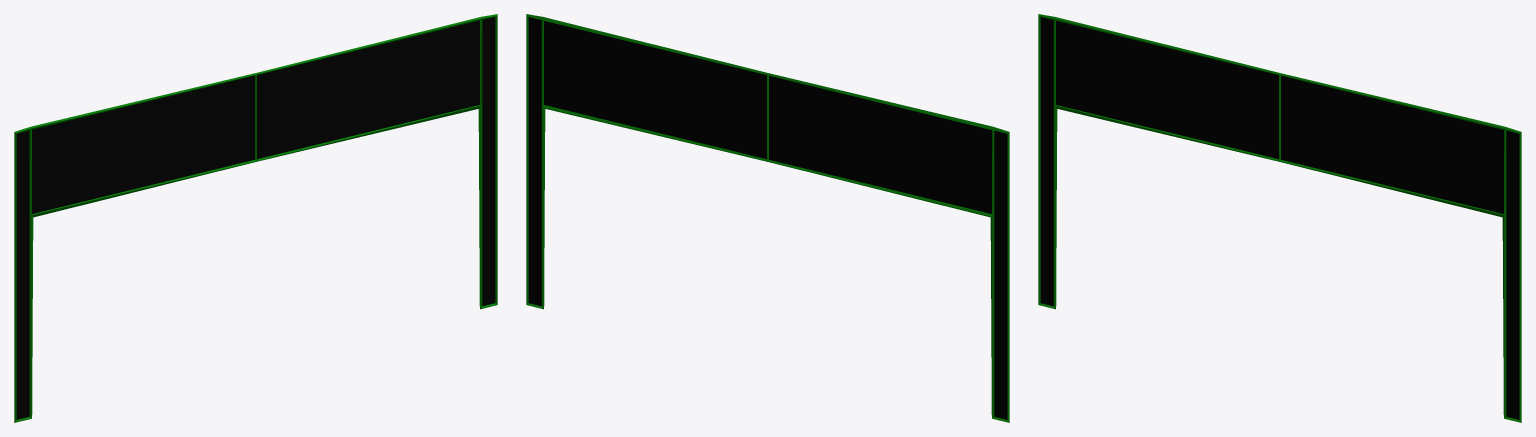
The model's file is freeway_sign.obj.
3 views of the same model, side by side, from view 1: azimuth 30°, elevation 25°; view 2: azimuth 150°, elevation 25°; view 3: azimuth 330°, elevation 25° (orthographic).
Parts seen in each view (by area): view 1: Plane.005_Plane; view 2: Plane.005_Plane; view 3: Plane.005_Plane.
Boxes of the visible parts, x1,y1,x2,y2 form: Plane.005_Plane: (14, 14, 497, 422); Plane.005_Plane: (526, 14, 1009, 422); Plane.005_Plane: (1038, 14, 1521, 422).
Size of the model in its own units: 6.23 by 3.6 by 0.03.
